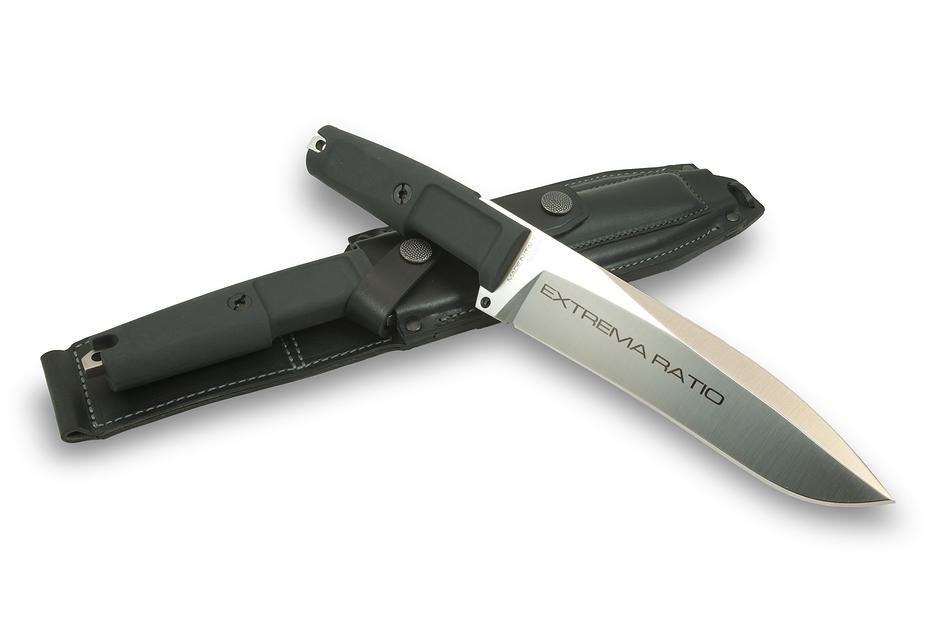knife: (474, 223, 915, 525)
